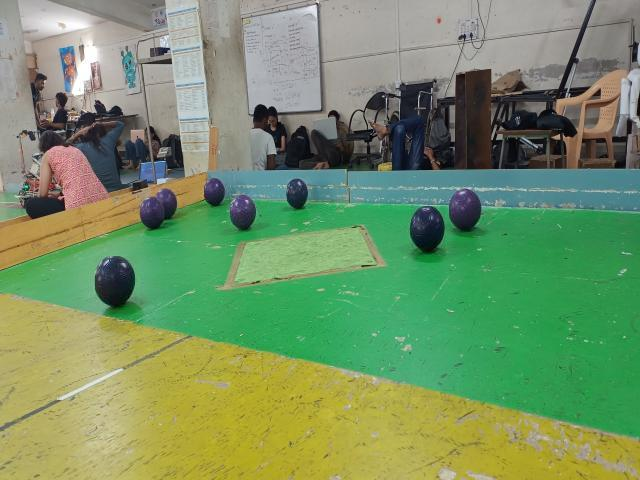jambhalya: (450, 188, 483, 230), (231, 194, 257, 230), (142, 197, 166, 228), (157, 189, 179, 218), (205, 178, 227, 205)
kaalyya: (96, 256, 137, 306), (411, 206, 445, 251), (287, 179, 309, 208)
